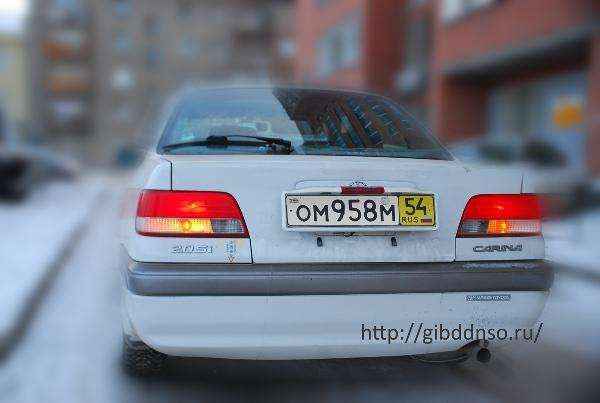license-plateSW: (284, 196, 433, 227)
